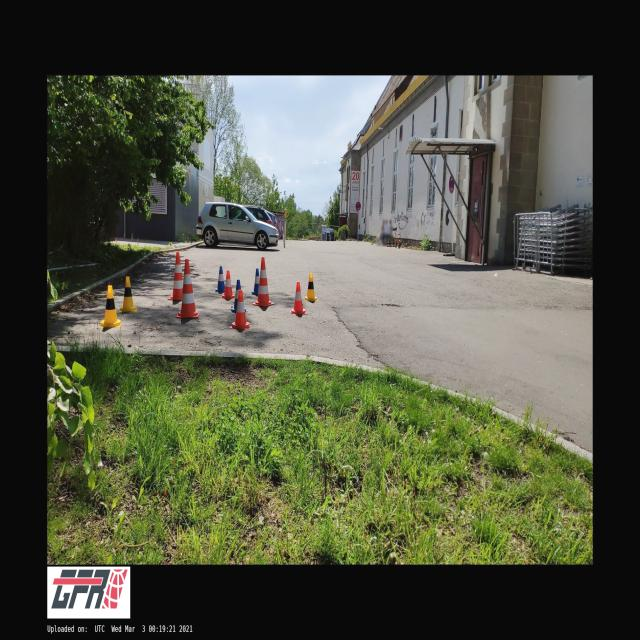blue_cone: (230, 279, 248, 313), (215, 266, 225, 292), (252, 268, 260, 294)
large_orange_cone: (176, 260, 198, 318), (252, 257, 274, 306), (168, 252, 184, 300)
orange_cone: (229, 290, 251, 330), (290, 281, 306, 315), (221, 270, 235, 298)
yellow_cone: (100, 286, 121, 328), (120, 276, 137, 312), (304, 273, 318, 301)
